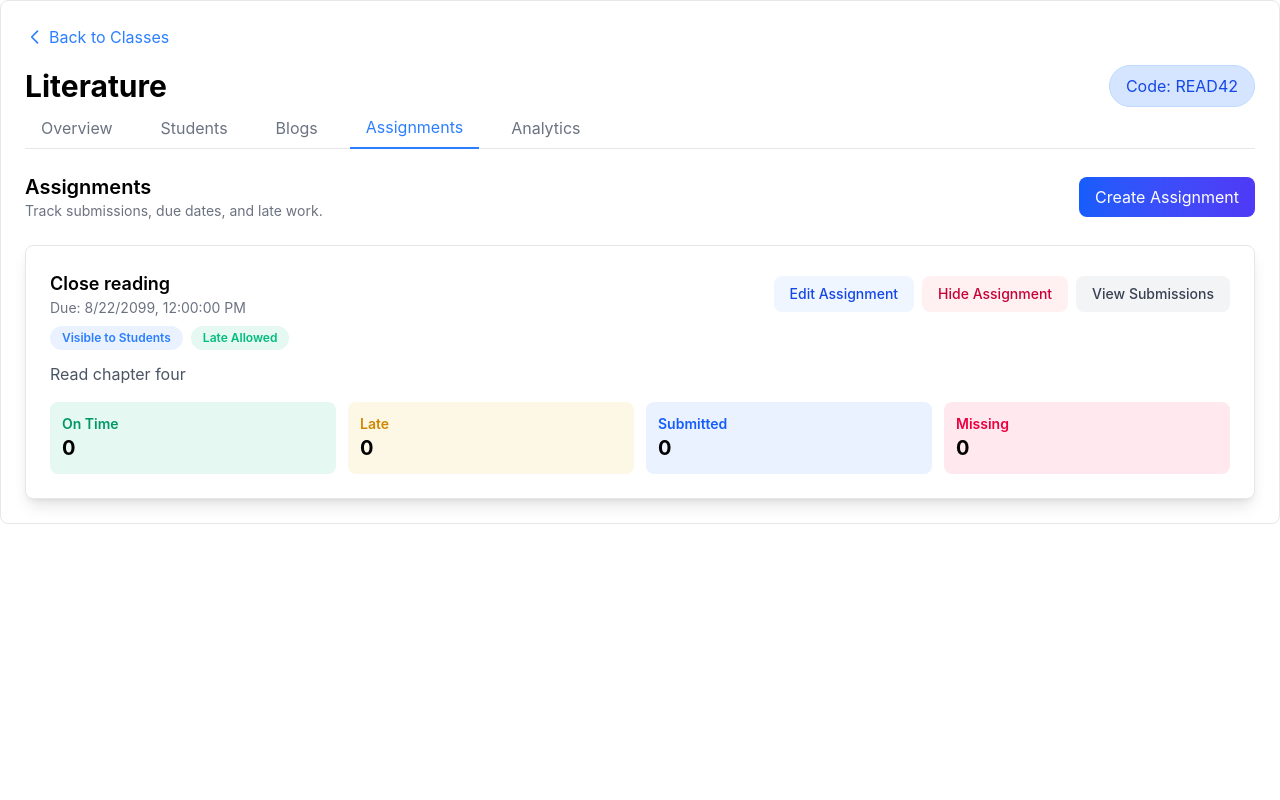
Test: describes class visibility as assignment audience rather than peer submission access
Check: the text "Visible to Students" is shown, box [50,326,183,350]
Click the button "Create Assignment" at (1167, 197), box [1079,177,1255,217]
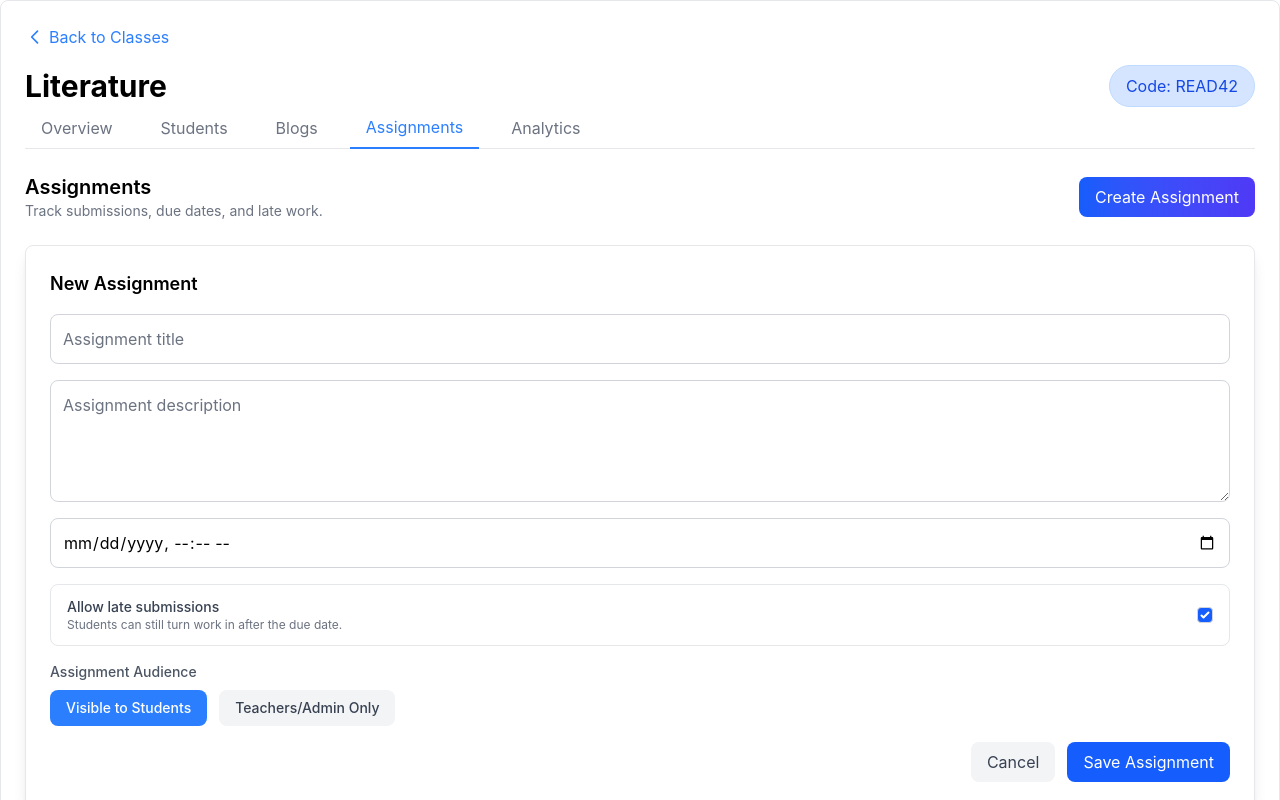
Check: the text "Assignment Audience" is shown, box [50,663,197,680]
Check: the button "Visible to Students" is shown, box [50,690,207,726]
